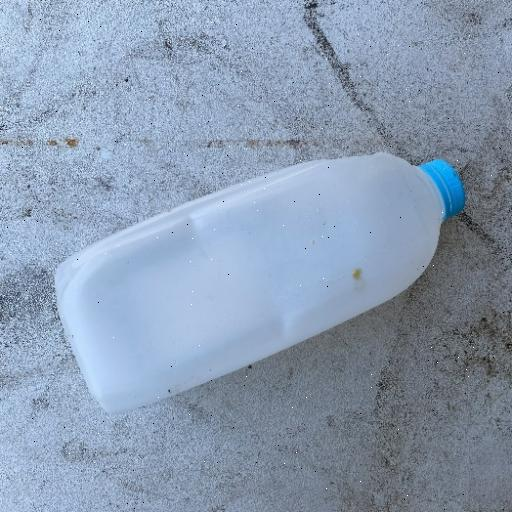Plastic: (51, 149, 467, 415)
